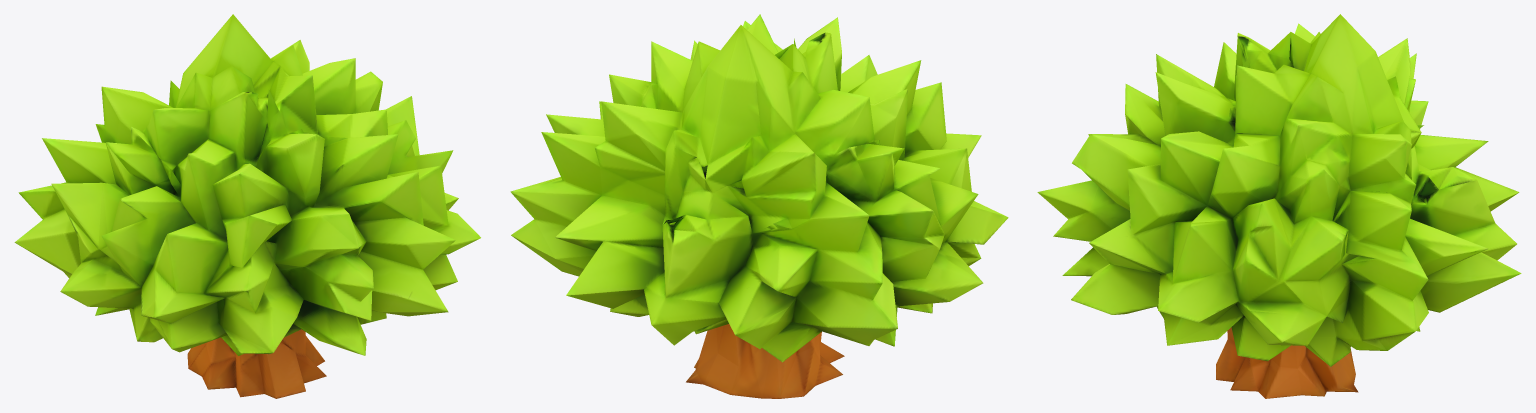
File: base_basic_shaded.fbx
3 views of the same model, side by side, from view 1: azimuth 30°, elevation 25°; view 2: azimuth 150°, elevation 25°; view 3: azimuth 270°, elevation 25° (orthographic). The views are drawn at different scales.
Parts seen in each view (by area): view 1: model; view 2: model; view 3: model.
Part boxes in pixels (box(x1,y1,x2,y2)): model: box(14, 14, 480, 398); model: box(510, 14, 1008, 398); model: box(1037, 14, 1521, 398).
Size of the model in its own units: 170 by 138 by 169.
